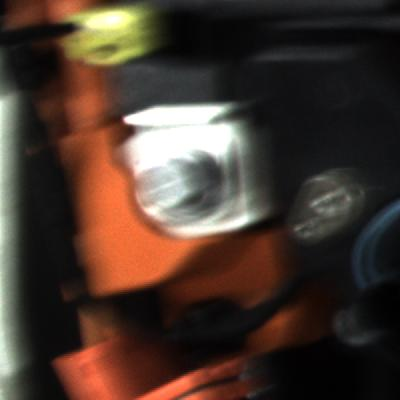nut_b: (144, 149, 233, 230)
